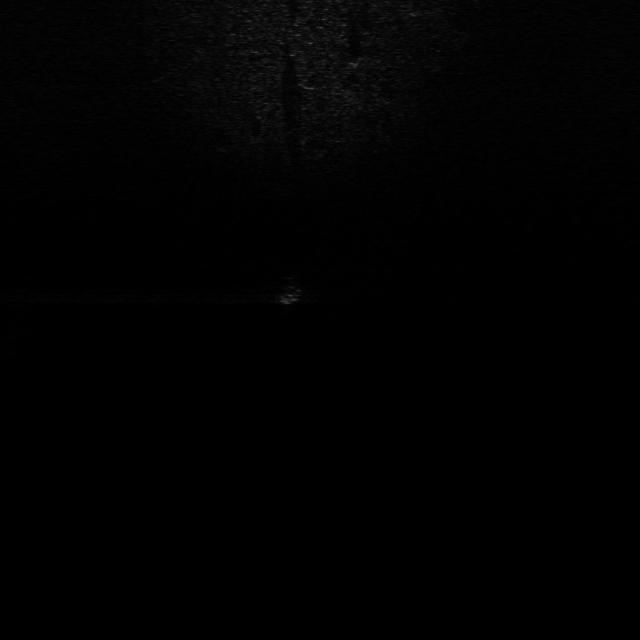human body: (270, 271, 312, 313)
